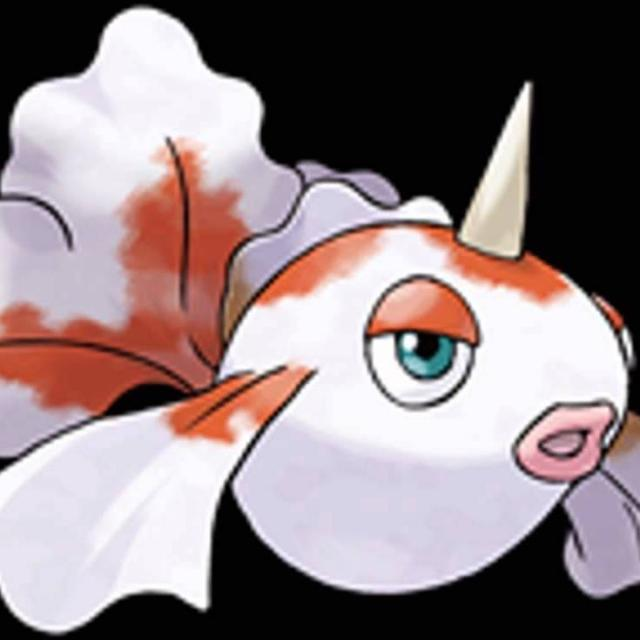Goldeen: (195, 87, 640, 588)
